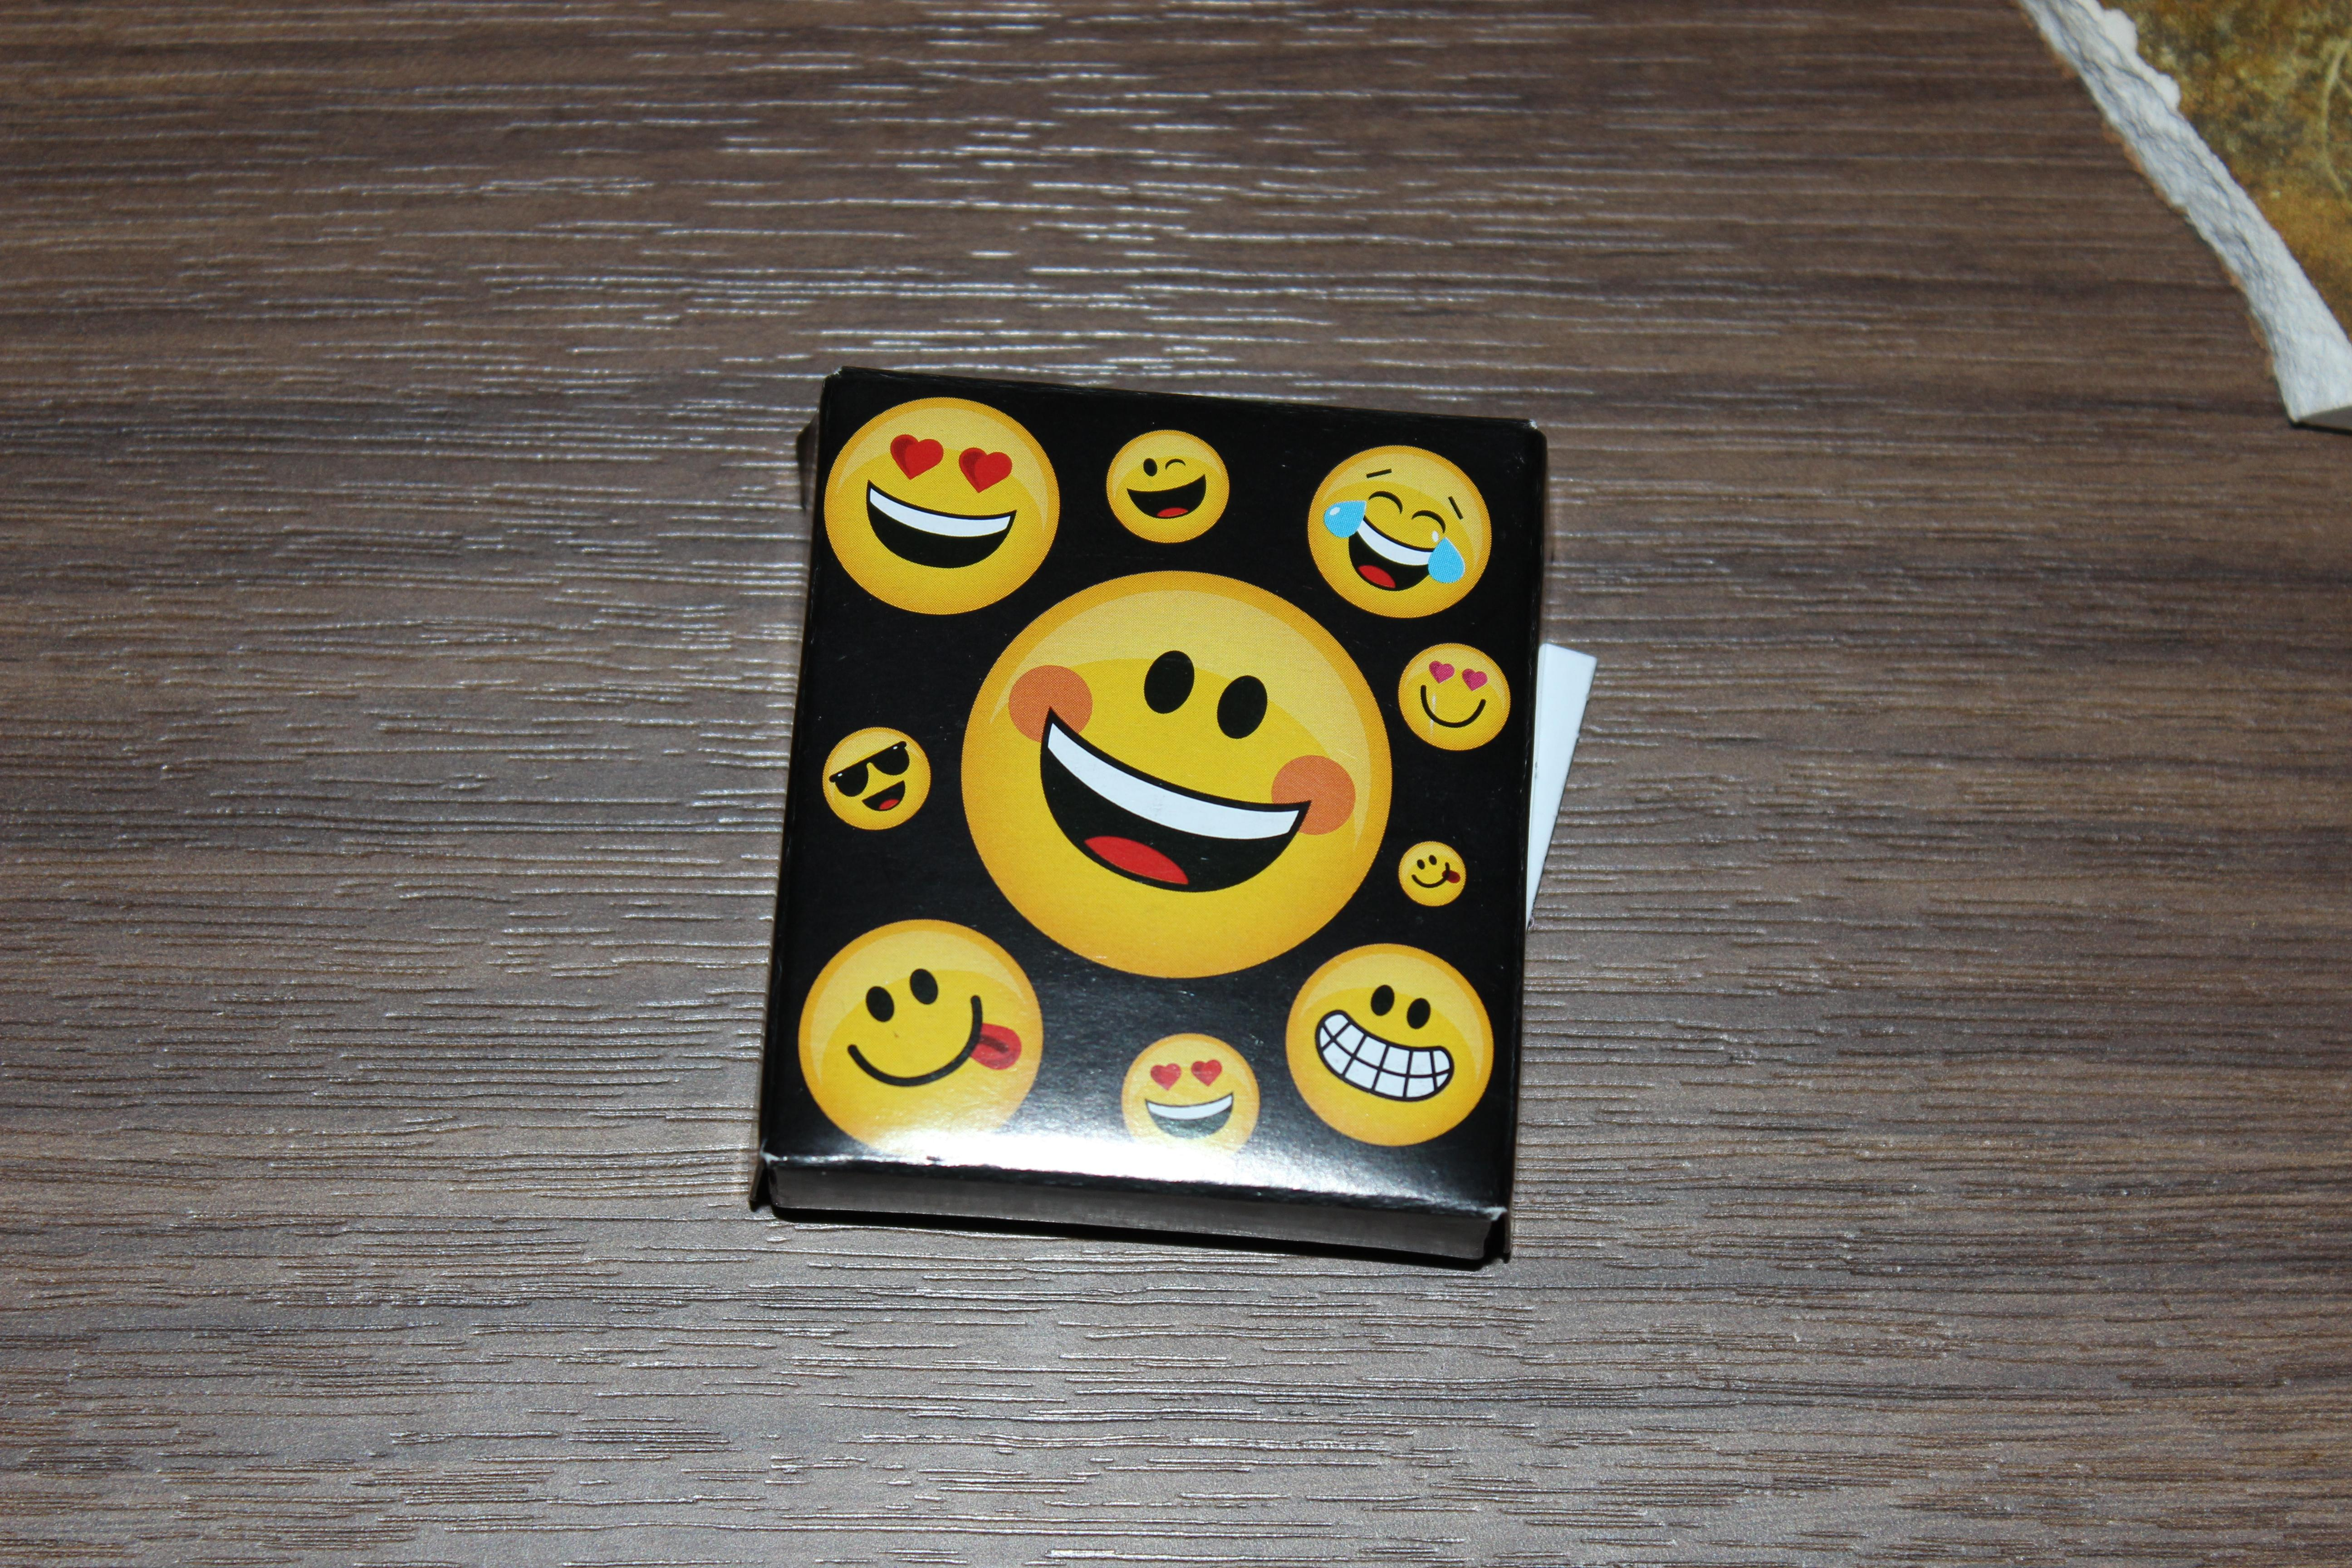stickerBox: (707, 324, 1601, 1316)
